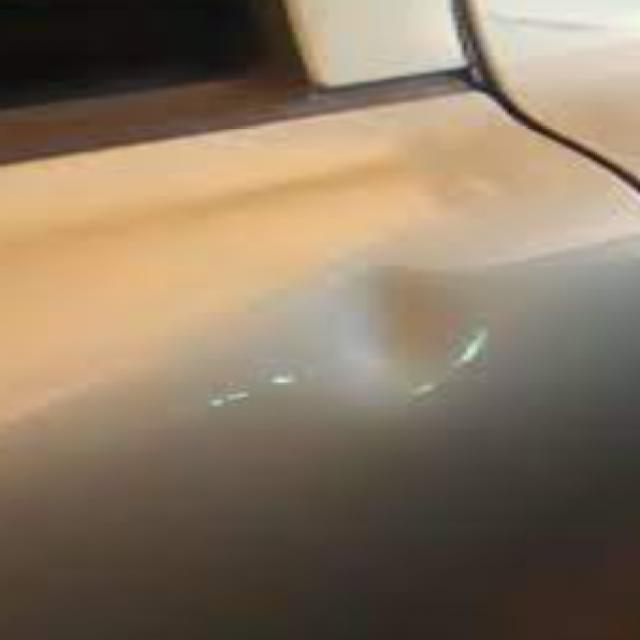dents: (256, 255, 541, 418)
